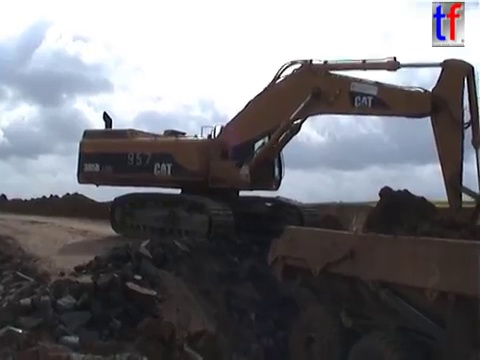excavator: (73, 54, 480, 269)
truck: (263, 203, 480, 360)
